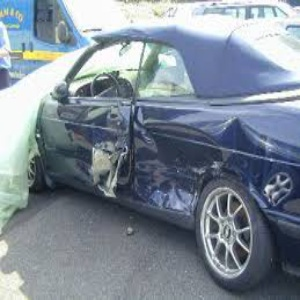door: (56, 116, 199, 199)
